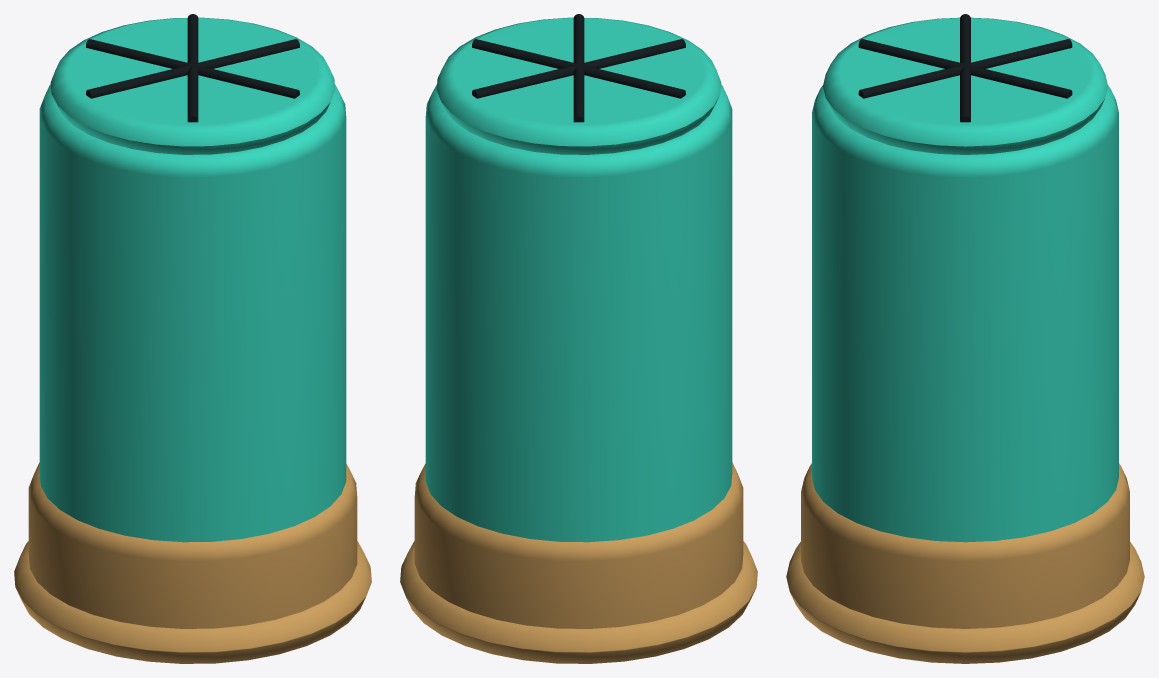
File: shell_blank.glb
3 views of the same model, side by side, from view 1: azimuth 30°, elevation 25°; view 2: azimuth 150°, elevation 25°; view 3: azimuth 270°, elevation 25° (orthographic).
Visible parts, largest first — view 1: Casing.001, Brass_base.001, Top_cap.001, Rim.001, Crimp.009, Crimp.011, Crimp.006, Crimp.008, Crimp.010, Crimp.007; view 2: Casing.001, Brass_base.001, Top_cap.001, Rim.001, Crimp.007, Crimp.009, Crimp.006, Crimp.010, Crimp.008, Crimp.011; view 3: Casing.001, Brass_base.001, Top_cap.001, Rim.001, Crimp.007, Crimp.011, Crimp.008, Crimp.010, Crimp.006, Crimp.009.
Boxes of the visible parts, left/top/right/bottom form: Casing.001: left=39, top=84, right=346, bottom=542; Brass_base.001: left=28, top=462, right=357, bottom=628; Top_cap.001: left=50, top=17, right=335, bottom=154; Rim.001: left=14, top=541, right=371, bottom=663; Crimp.009: left=86, top=64, right=191, bottom=98; Crimp.011: left=194, top=64, right=299, bottom=98; Crimp.006: left=193, top=39, right=299, bottom=68; Crimp.008: left=86, top=39, right=192, bottom=68; Crimp.010: left=187, top=65, right=198, bottom=122; Crimp.007: left=187, top=14, right=198, bottom=64; Casing.001: left=425, top=84, right=732, bottom=542; Brass_base.001: left=414, top=462, right=743, bottom=628; Top_cap.001: left=436, top=17, right=721, bottom=154; Rim.001: left=400, top=541, right=757, bottom=663; Crimp.007: left=472, top=64, right=577, bottom=98; Crimp.009: left=580, top=64, right=685, bottom=98; Crimp.006: left=472, top=39, right=578, bottom=68; Crimp.010: left=579, top=39, right=685, bottom=68; Crimp.008: left=573, top=65, right=584, bottom=122; Crimp.011: left=573, top=14, right=584, bottom=64; Casing.001: left=812, top=85, right=1118, bottom=542; Brass_base.001: left=801, top=463, right=1129, bottom=628; Top_cap.001: left=823, top=17, right=1107, bottom=154; Rim.001: left=786, top=542, right=1144, bottom=663; Crimp.007: left=966, top=64, right=1072, bottom=98; Crimp.011: left=858, top=64, right=964, bottom=98; Crimp.008: left=966, top=39, right=1072, bottom=68; Crimp.010: left=858, top=39, right=964, bottom=68; Crimp.006: left=960, top=65, right=970, bottom=122; Crimp.009: left=960, top=14, right=970, bottom=64.
Size of the model in its own units: 0.098 by 0.1605 by 0.098.
